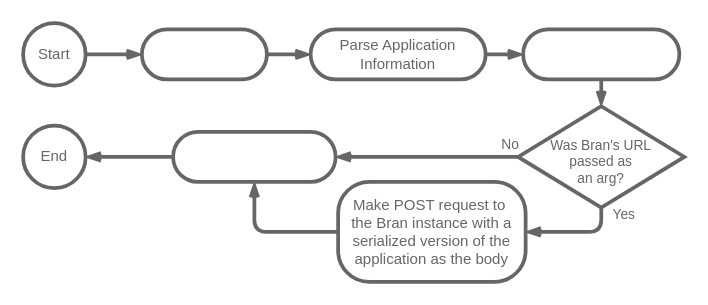
The diagram is 708 pixels wide and 305 high, and some of its shapes have lost their labels. Each missing label, with the box of its shape:
Load YAML file: (139, 27, 268, 81)
Parse Locations: (521, 27, 681, 81)
Report success or failure: (171, 129, 337, 183)
